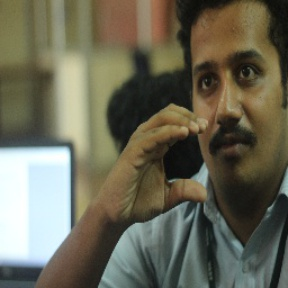C: (128, 99, 218, 220)
